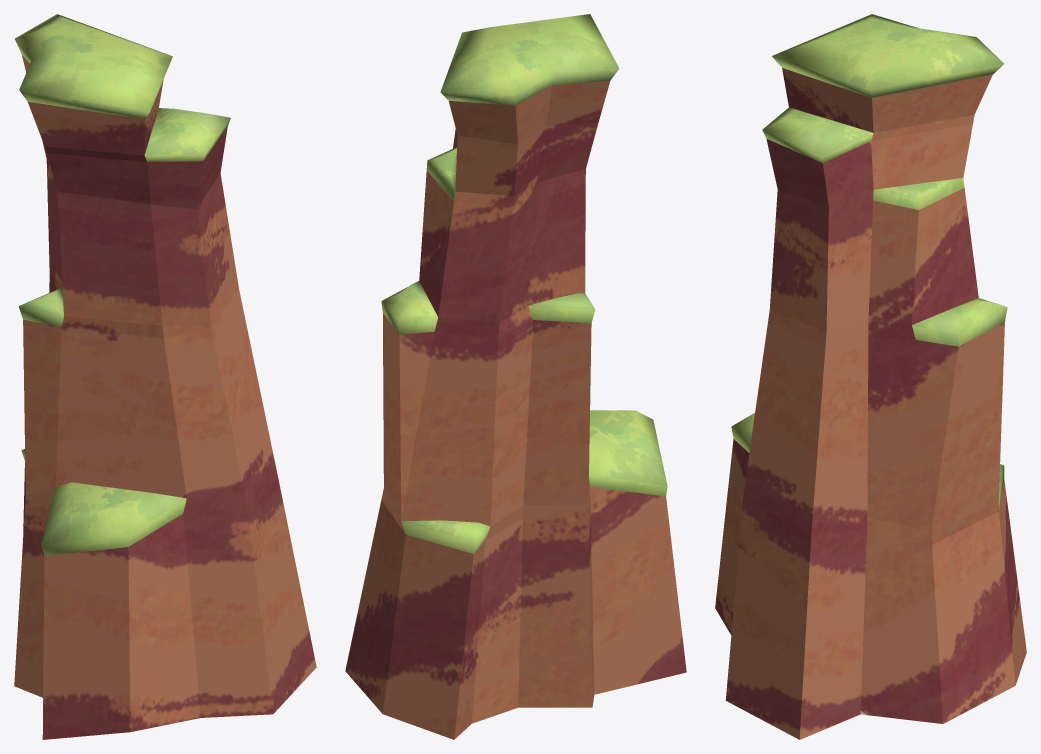
File: rock10.fbx
The picture shows the model from 3 angles, left to right: view 1: azimuth 30°, elevation 25°; view 2: azimuth 150°, elevation 25°; view 3: azimuth 270°, elevation 25°; orthographic projection. The views are drawn at different scales.
Parts seen in each view (by area): view 1: rock10; view 2: rock10; view 3: rock10.
Boxes of the visible parts, bbox=[...] form: rock10: bbox=[14, 14, 316, 739]; rock10: bbox=[345, 14, 686, 739]; rock10: bbox=[715, 14, 1026, 739].
Bounding box in the file's own units: 393 × 843 × 385.
